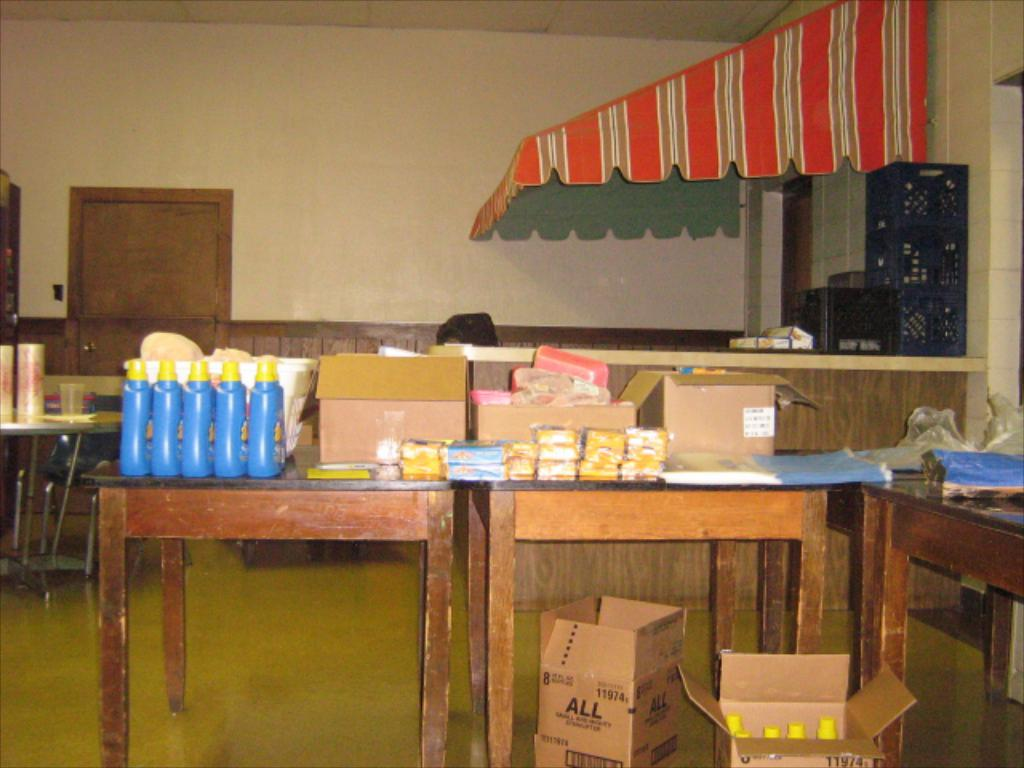Cabinetry: (0, 299, 1006, 621)
